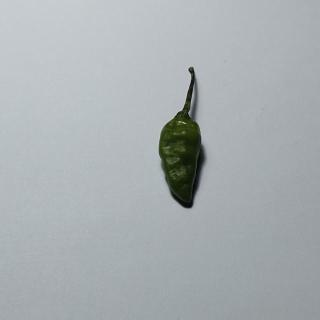Cabai Hijau: (154, 64, 208, 215)
